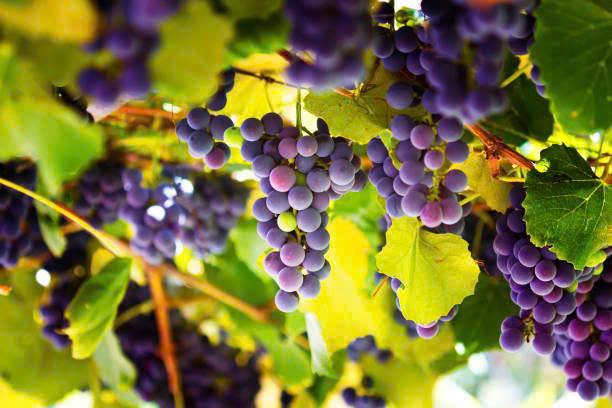grape: (376, 0, 516, 222), (481, 213, 612, 407), (236, 105, 356, 316), (123, 162, 239, 283)
